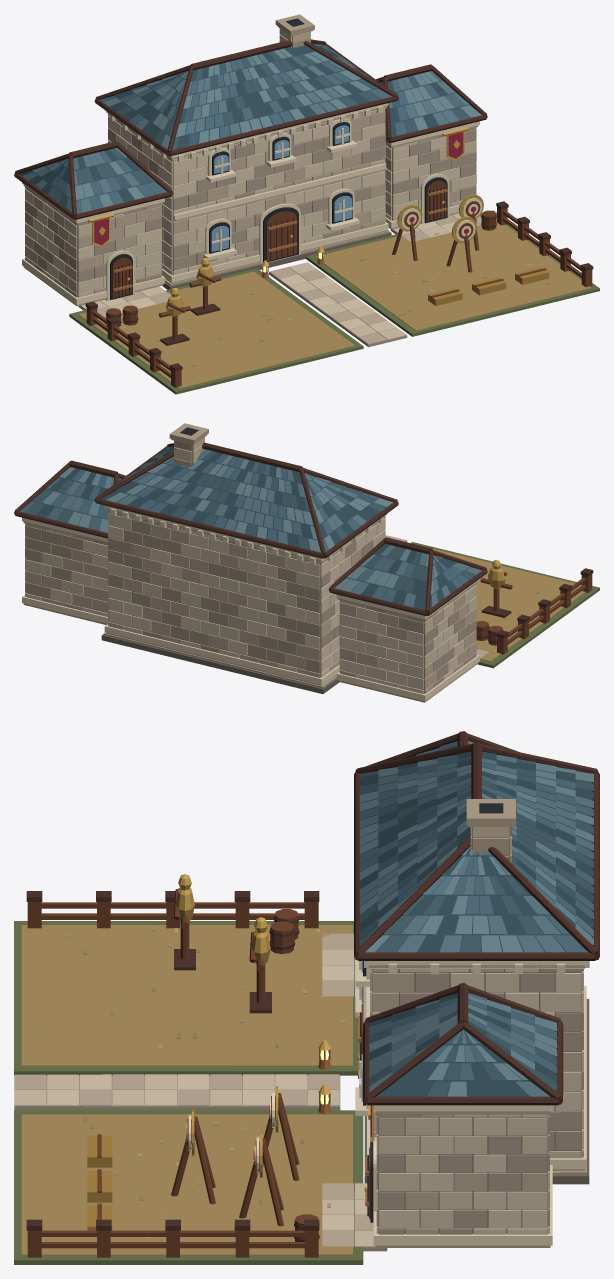
File: barracks-nivel-6.glb
The picture shows the model from 3 angles, top to bottom: view 1: azimuth 30°, elevation 25°; view 2: azimuth 150°, elevation 25°; view 3: azimuth 270°, elevation 25°; orthographic projection. The views are drawn at different scales.
Parts seen in each view (by area): view 1: Academia do arco #ad8f5a, Academia do arco #d3c3a9, Academia do arco #dac9af, Academia do arco #4c3028, Academia do arco #c1af99, Academia do arco #ae9d8b, Academia do arco #344d58, Academia do arco #e6d7ba, Academia do arco #70432c, Academia do arco #637f89, Academia do arco #486574, Academia do arco #68744a (+14 smaller); view 2: Academia do arco #ae9d8b, Academia do arco #c1af99, Academia do arco #d3c3a9, Academia do arco #dac9af, Academia do arco #344d58, Academia do arco #4c3028, Academia do arco #637f89, Academia do arco #486574, Academia do arco #e6d7ba, Academia do arco #55717e, Academia do arco #3f5a65, Academia do arco #ad8f5a (+8 smaller); view 3: Academia do arco #ad8f5a, Academia do arco #4c3028, Academia do arco #344d58, Academia do arco #70432c, Academia do arco #d3c3a9, Academia do arco #dac9af, Academia do arco #637f89, Academia do arco #68744a, Academia do arco #ae9d8b, Academia do arco #55717e, Academia do arco #c1af99, Academia do arco #486574 (+9 smaller).
Part boxes in pixels (x1=…): Academia do arco #ad8f5a: x1=78, y1=216, x2=591, y2=388; Academia do arco #d3c3a9: x1=25, y1=108, x2=476, y2=339; Academia do arco #dac9af: x1=33, y1=116, x2=476, y2=332; Academia do arco #4c3028: x1=14, y1=39, x2=593, y2=371; Academia do arco #c1af99: x1=25, y1=108, x2=481, y2=344; Academia do arco #ae9d8b: x1=25, y1=113, x2=476, y2=347; Academia do arco #344d58: x1=20, y1=43, x2=470, y2=212; Academia do arco #e6d7ba: x1=22, y1=103, x2=479, y2=304; Academia do arco #70432c: x1=86, y1=181, x2=592, y2=387; Academia do arco #637f89: x1=32, y1=48, x2=481, y2=207; Academia do arco #486574: x1=47, y1=44, x2=464, y2=213; Academia do arco #68744a: x1=69, y1=210, x2=599, y2=394; Academia do arco #ae9d8b: x1=25, y1=511, x2=476, y2=687; Academia do arco #c1af99: x1=25, y1=524, x2=488, y2=693; Academia do arco #d3c3a9: x1=25, y1=513, x2=476, y2=693; Academia do arco #dac9af: x1=25, y1=513, x2=464, y2=685; Academia do arco #344d58: x1=25, y1=447, x2=475, y2=610; Academia do arco #4c3028: x1=14, y1=442, x2=593, y2=643; Academia do arco #637f89: x1=42, y1=447, x2=469, y2=594; Academia do arco #486574: x1=20, y1=452, x2=469, y2=602; Academia do arco #e6d7ba: x1=22, y1=505, x2=479, y2=701; Academia do arco #55717e: x1=60, y1=450, x2=481, y2=607; Academia do arco #3f5a65: x1=25, y1=446, x2=475, y2=592; Academia do arco #ad8f5a: x1=432, y1=549, x2=585, y2=661; Academia do arco #ad8f5a: x1=21, y1=925, x2=352, y2=1255; Academia do arco #4c3028: x1=26, y1=731, x2=599, y2=1241; Academia do arco #344d58: x1=359, y1=743, x2=593, y2=1096; Academia do arco #70432c: x1=27, y1=902, x2=370, y2=1257; Academia do arco #d3c3a9: x1=14, y1=949, x2=583, y2=1247; Academia do arco #dac9af: x1=47, y1=959, x2=583, y2=1234; Academia do arco #637f89: x1=359, y1=741, x2=593, y2=1096; Academia do arco #68744a: x1=14, y1=921, x2=363, y2=1264; Academia do arco #ae9d8b: x1=14, y1=969, x2=583, y2=1251; Academia do arco #55717e: x1=359, y1=743, x2=593, y2=1096; Academia do arco #c1af99: x1=14, y1=933, x2=583, y2=1246; Academia do arco #486574: x1=359, y1=741, x2=593, y2=1091.
Size of the model in its own units: 13.45 by 6.1 by 9.82.
